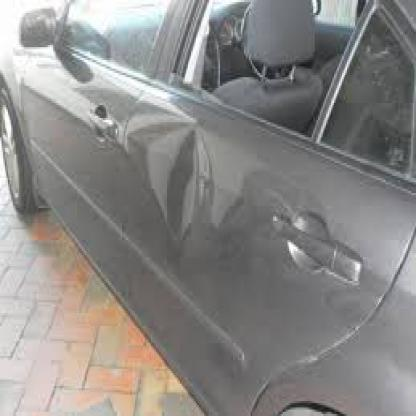dent: (147, 128, 213, 233)
